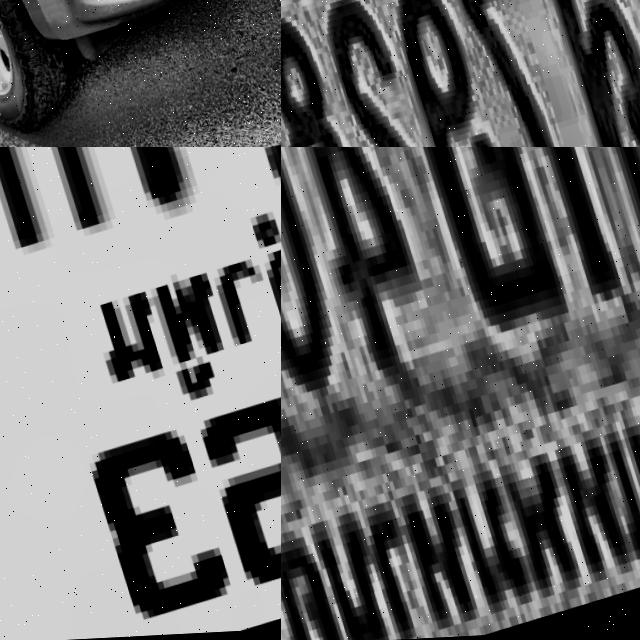license-plate: (281, 147, 640, 640), (0, 147, 281, 640), (281, 0, 640, 147)
